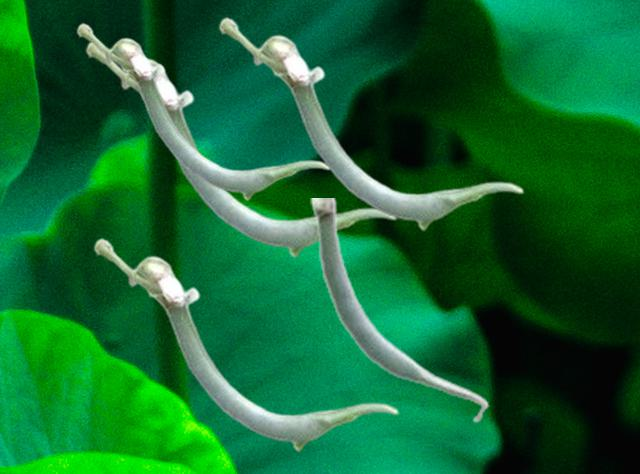french_bean: (85, 40, 396, 257), (218, 16, 523, 230), (93, 237, 398, 451), (76, 22, 330, 200), (310, 198, 488, 423)
